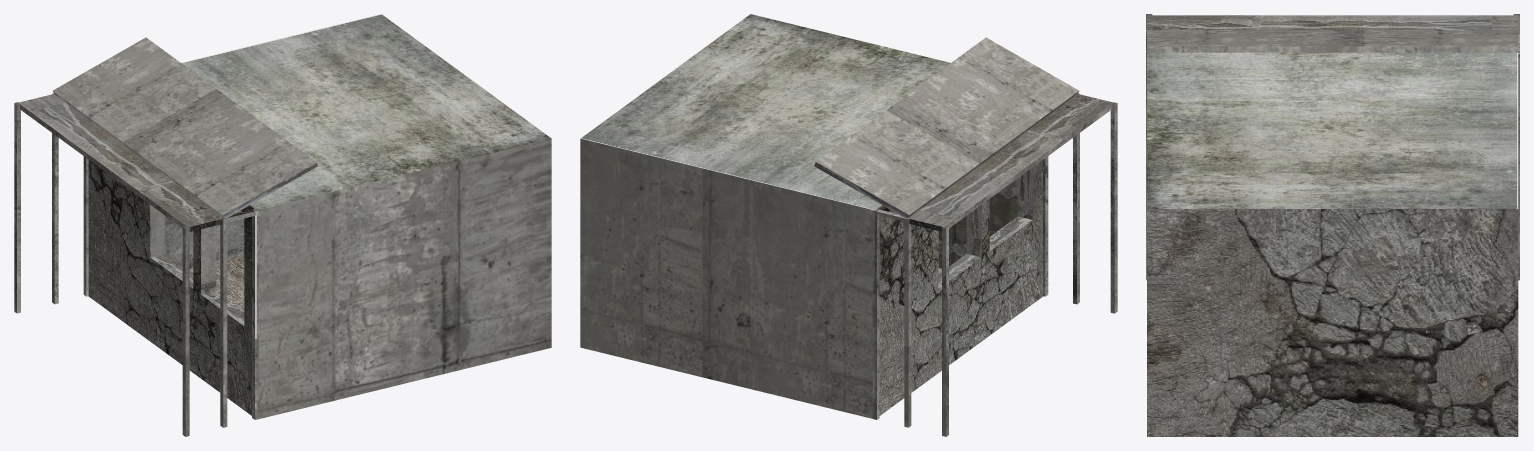
3 renders of one model, left to right at view 1: azimuth 30°, elevation 25°; view 2: azimuth 150°, elevation 25°; view 3: azimuth 270°, elevation 25°, orthographic. The views are drawn at different scales.
Visible parts, largest first — view 1: Cube.069; view 2: Cube.069; view 3: Cube.069.
Part boxes in pixels (x1,y1,x2,y2): Cube.069: [14, 14, 551, 436]; Cube.069: [580, 14, 1117, 436]; Cube.069: [1146, 14, 1519, 436].
Bounding box in the file's own units: 2.49 × 1.58 × 2.01.
Materials: 1 (1 with a texture image).
